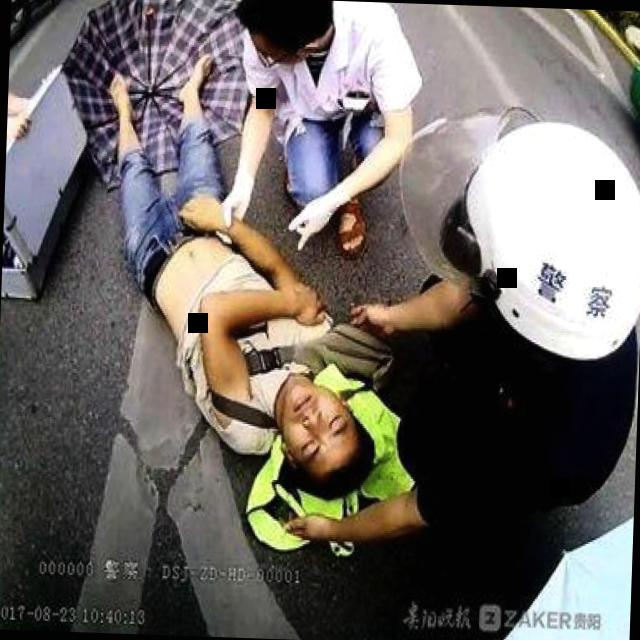Fall-Detected: (63, 47, 400, 516)
